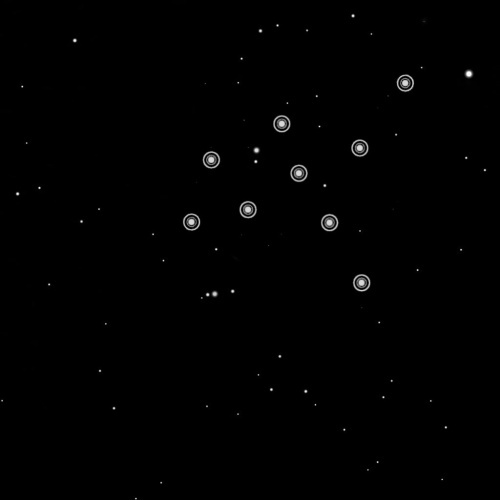cygnus: (178, 67, 418, 299)
